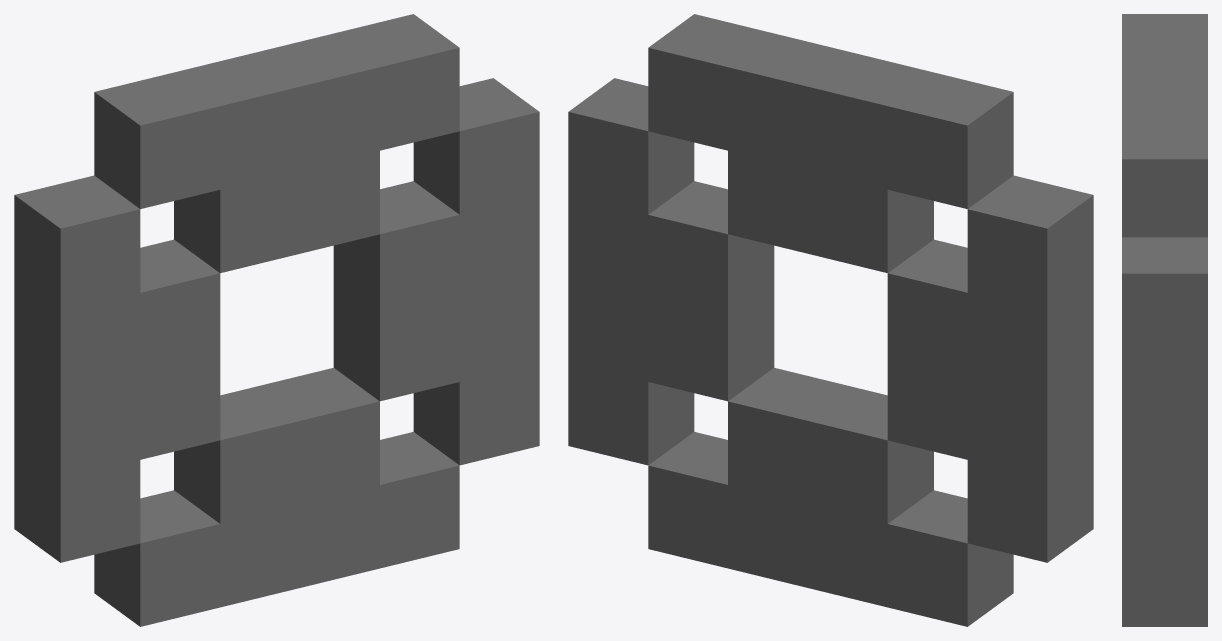
File: крутящий елемент (валовые шестерни).obj
3 renders of one model, left to right at view 1: azimuth 30°, elevation 25°; view 2: azimuth 150°, elevation 25°; view 3: azimuth 270°, elevation 25°, orthographic. The views are drawn at different scales.
Bounding box in the file's own units: 0.6 × 0.6 × 0.1.
1 material, 1 textured.
